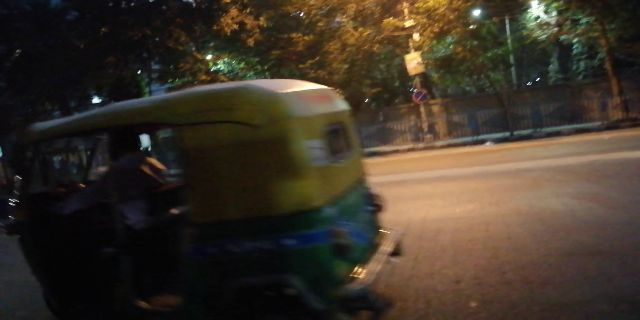Autorickshaw: (22, 76, 378, 289)
